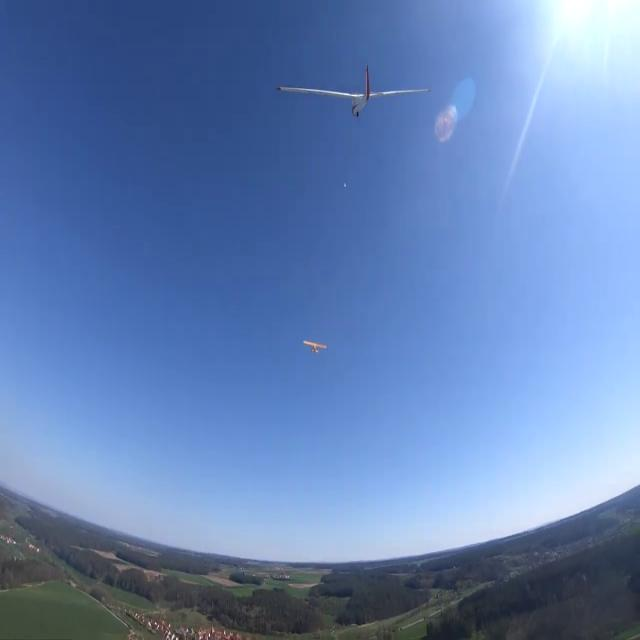iha: (273, 3, 431, 54), (304, 338, 328, 358)
